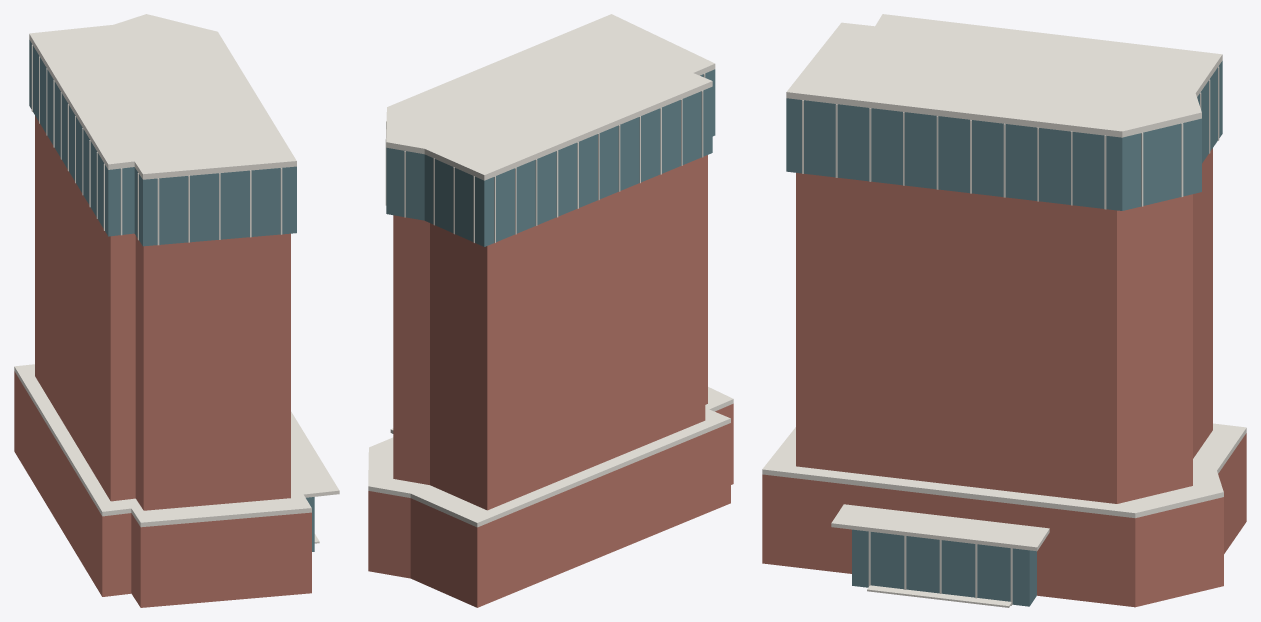
The model's file is shirley.glb.
The picture shows the model from 3 angles, left to right: view 1: azimuth 30°, elevation 25°; view 2: azimuth 150°, elevation 25°; view 3: azimuth 270°, elevation 25°; orthographic projection. The views are drawn at different scales.
Parts seen in each view (by area): view 1: SHC_tower, SHC_roof, SHC_podium, SHC_crown, SHC_podium_band, SHC_canopy; view 2: SHC_tower, SHC_podium, SHC_roof, SHC_crown, SHC_podium_band; view 3: SHC_tower, SHC_roof, SHC_crown, SHC_podium, SHC_atrium, SHC_podium_band, SHC_canopy, SHC_step_1.
Boxes of the visible parts, left/top/right/bottom form: SHC_tower: left=35, top=116, right=290, bottom=510; SHC_roof: left=29, top=14, right=296, bottom=179; SHC_podium: left=14, top=371, right=311, bottom=607; SHC_crown: left=29, top=40, right=296, bottom=246; SHC_podium_band: left=14, top=364, right=311, bottom=527; SHC_canopy: left=291, top=411, right=339, bottom=497; SHC_tower: left=393, top=155, right=707, bottom=510; SHC_podium: left=368, top=403, right=733, bottom=607; SHC_roof: left=386, top=14, right=715, bottom=180; SHC_crown: left=386, top=69, right=715, bottom=246; SHC_podium_band: left=368, top=387, right=733, bottom=527; SHC_tower: left=796, top=148, right=1212, bottom=503; SHC_roof: left=786, top=14, right=1222, bottom=137; SHC_crown: left=786, top=61, right=1222, bottom=210; SHC_podium: left=762, top=433, right=1246, bottom=607; SHC_atrium: left=852, top=529, right=1036, bottom=606; SHC_podium_band: left=762, top=423, right=1246, bottom=518; SHC_canopy: left=831, top=504, right=1049, bottom=551; SHC_step_1: left=867, top=585, right=1011, bottom=607.
Size of the model in its own units: 27.5 by 42.15 by 39.45.
